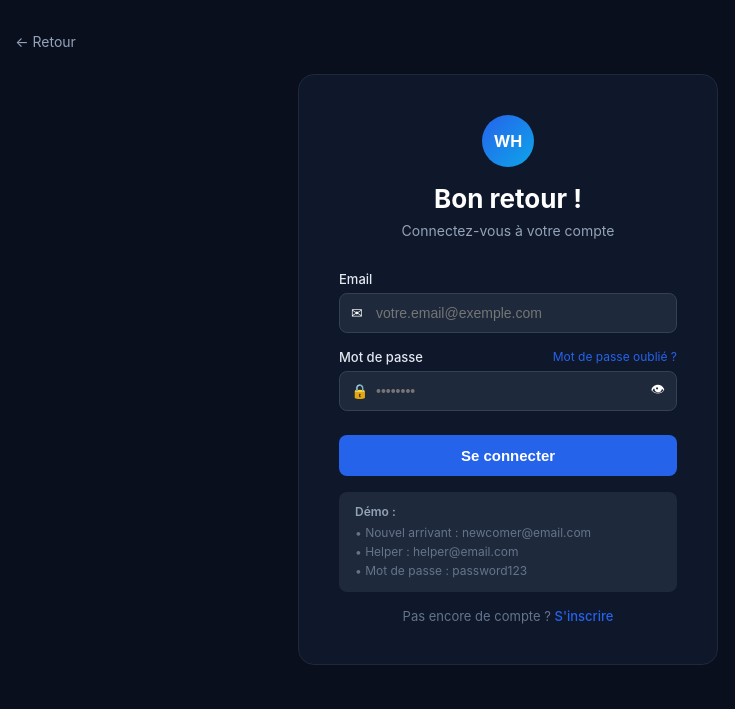
Scenario: Connexion › affiche une erreur avec un email inexistant
The width and height of the screenshot is (735, 709).
Type "inexistant@test.com" into the field named "email" at (508, 313), box [339,293,677,333]
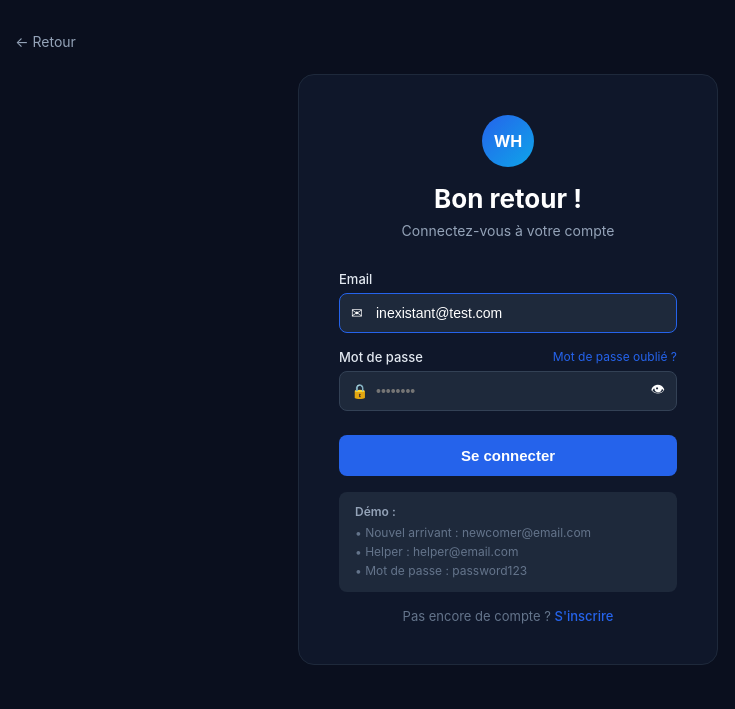
Type "password" into the password field named "password" at (508, 391), box [339,371,677,411]
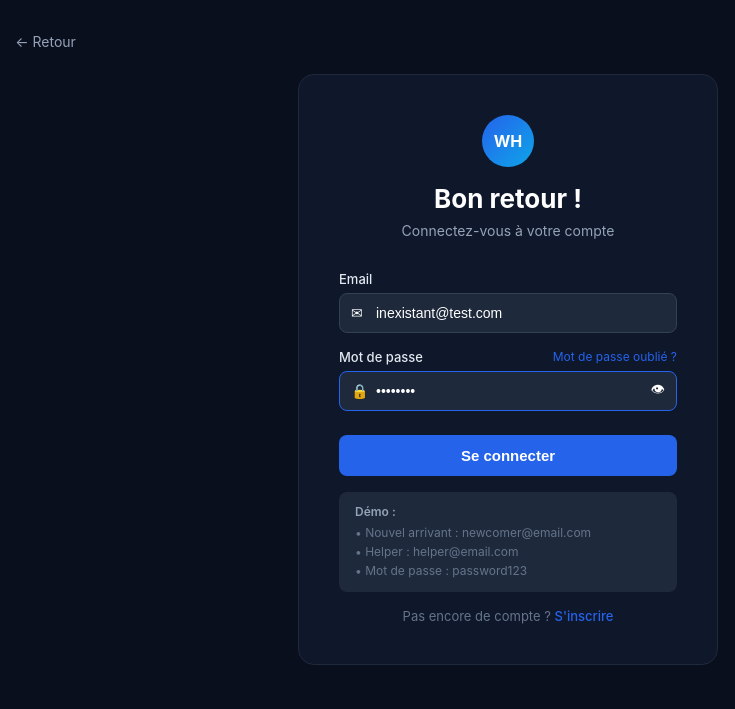
Click the button "Se connecter" at (508, 456), box [339,435,677,476]
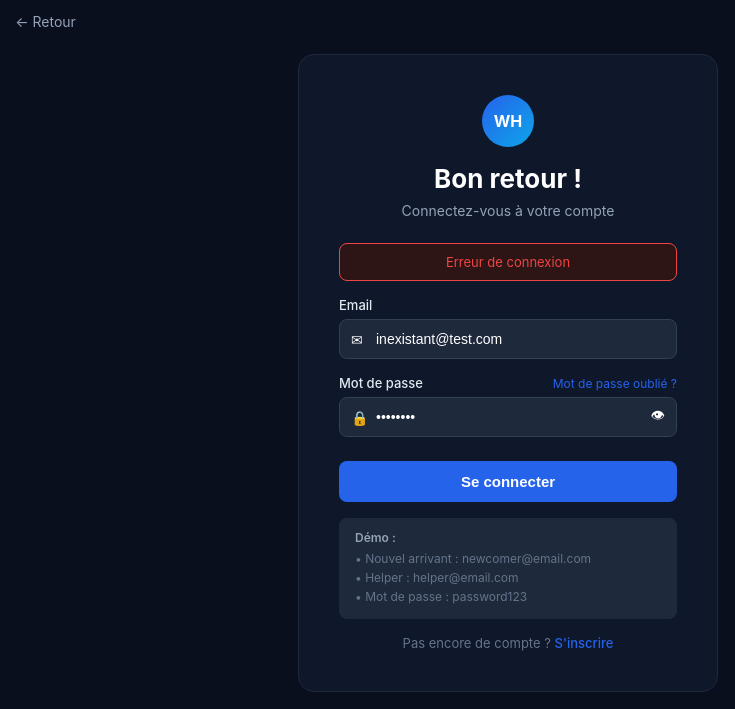
Now the text "Erreur de connexion" is shown, box [339,243,677,281]
